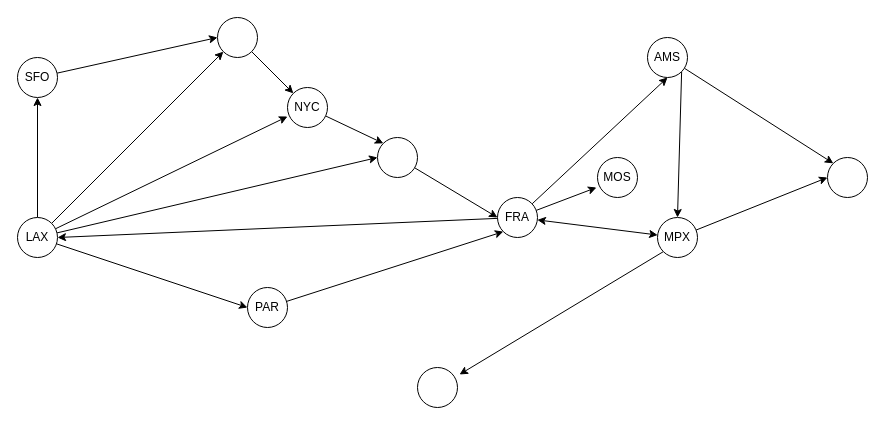
The diagram is 885 pixels wide and 425 high, and some of its shapes have lost their labels. Here are the shapes that lost their labels. From the top down, the centre of each, then its label:
At (x=237, y=37): "TOR".
At (x=397, y=157): "LON".
At (x=847, y=177): "BCN".
At (x=437, y=387): "MAD".
